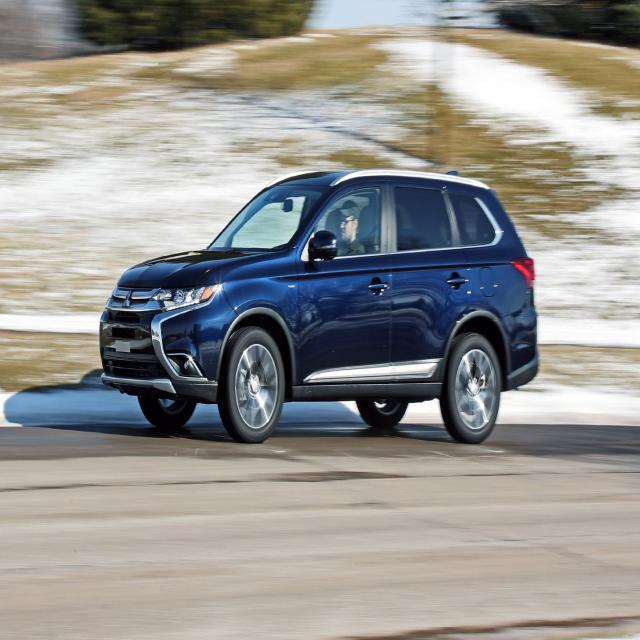light_vehicle: (98, 169, 541, 448)
